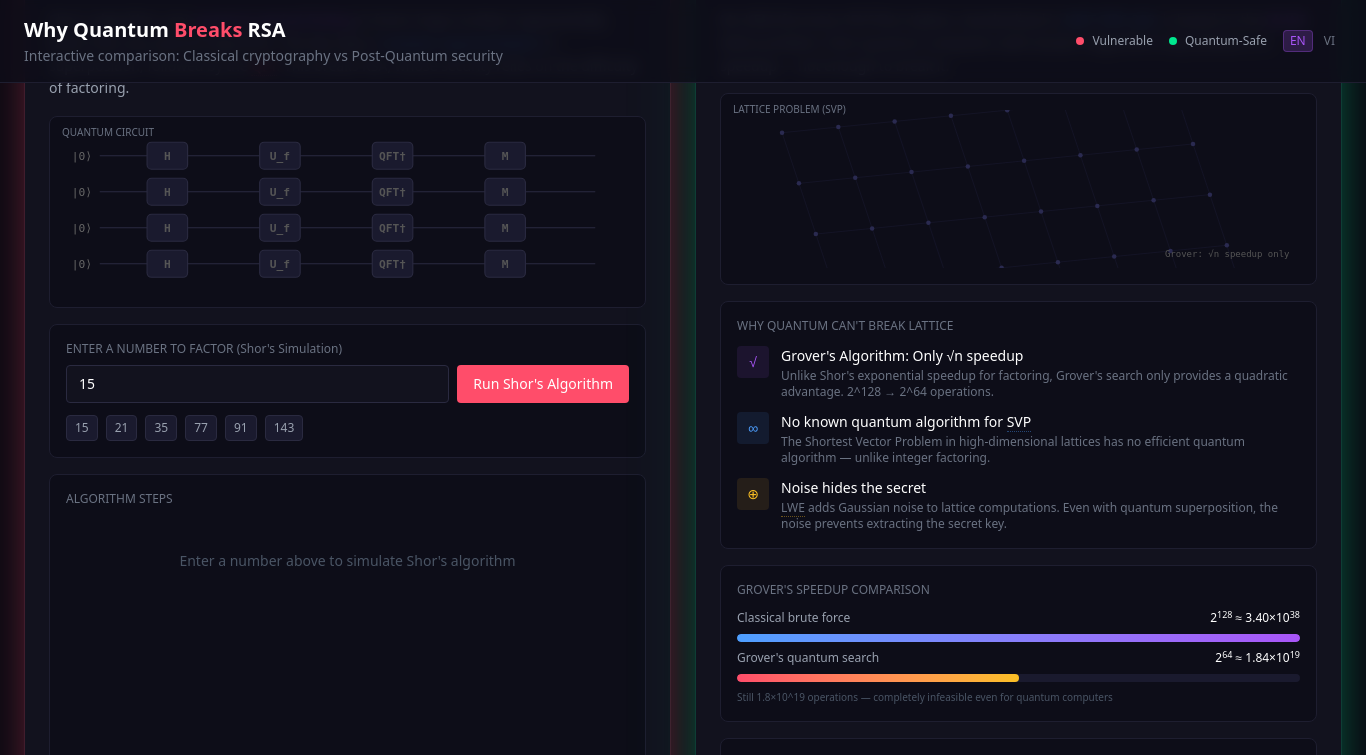
Test: Integration: Cross-panel state updates › stop aborts simulation and shows no result in full page
The width and height of the screenshot is (1366, 755).
(page scrolled)
What coordinates should you click on to do the following:
click the button "Run Shor's Algorithm"
I would click on:
 (543, 384)
Its box is left=457, top=365, right=629, bottom=403.
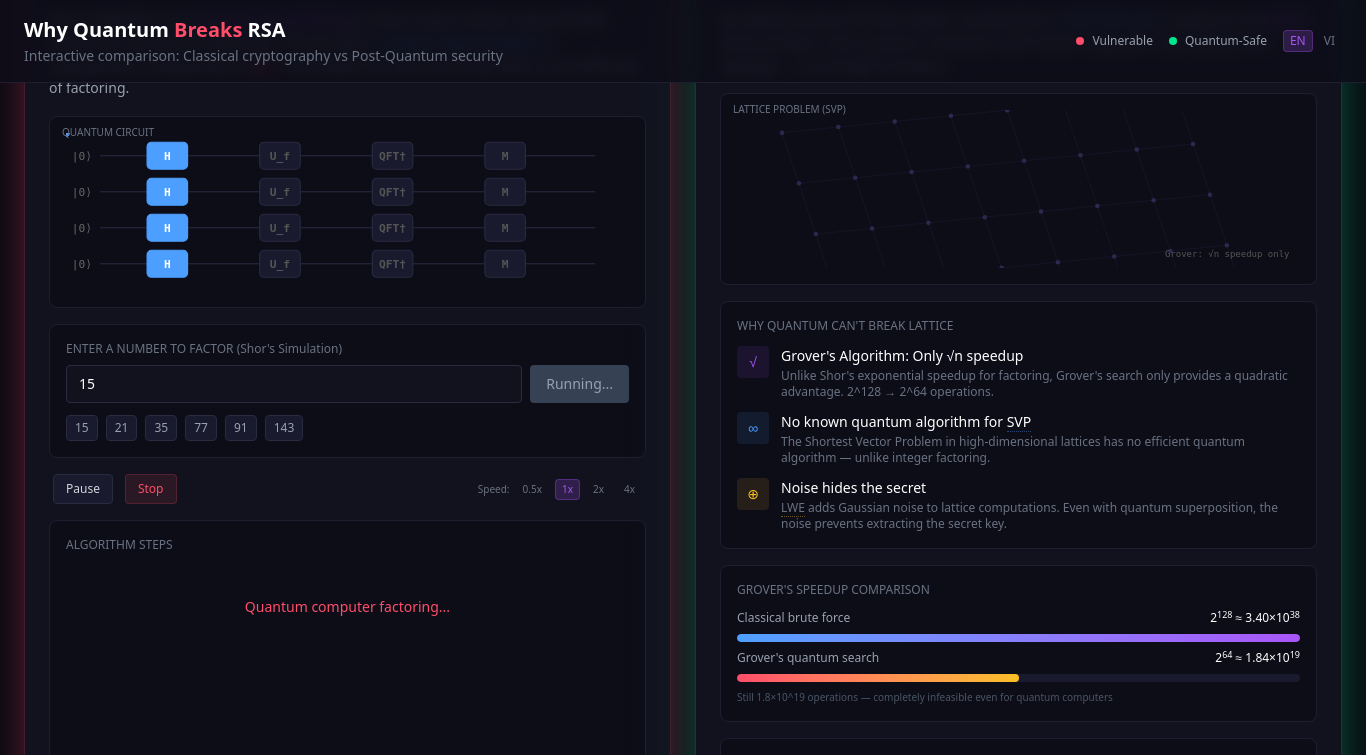
What coordinates should you click on to do the following:
click the button with aria-label "Stop simulation"
I would click on:
 (151, 489)
Its box is left=125, top=474, right=176, bottom=504.
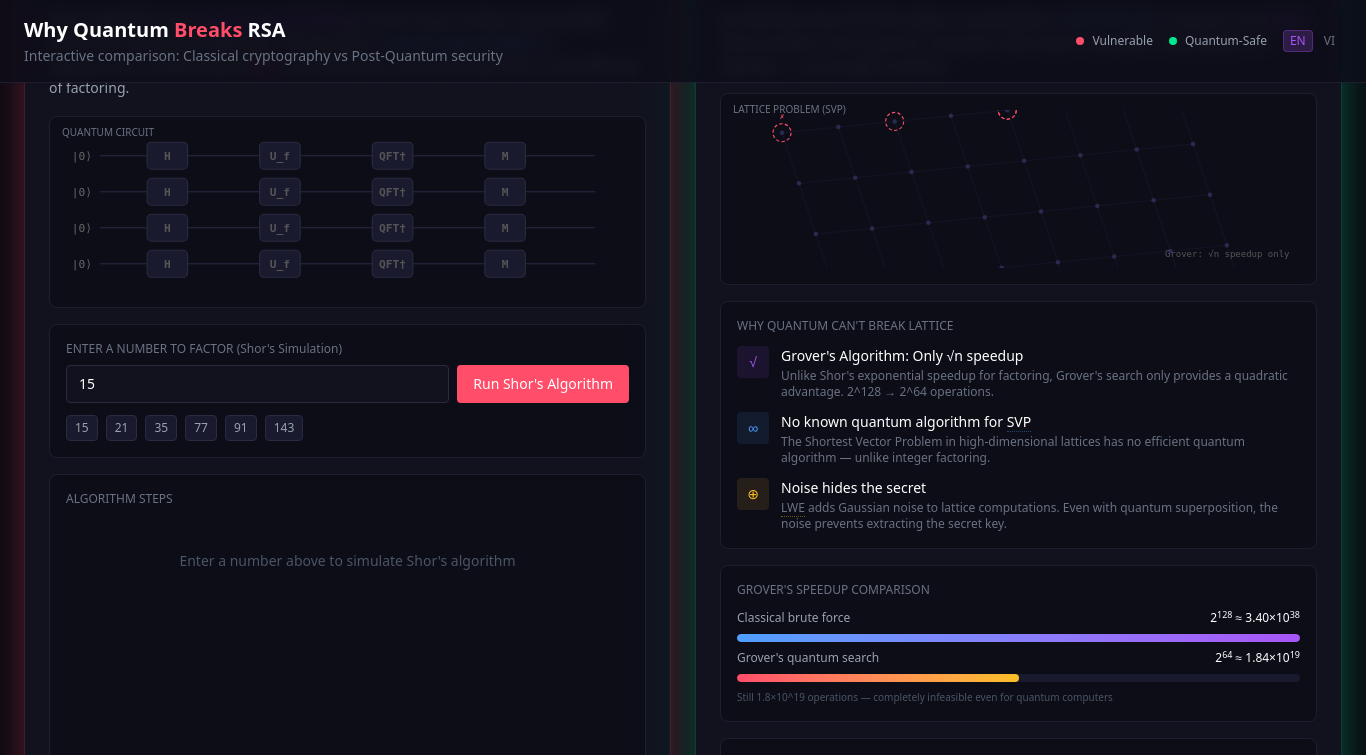
Check: the button "Run Shor's Algorithm" is shown, box left=457, top=365, right=629, bottom=403
